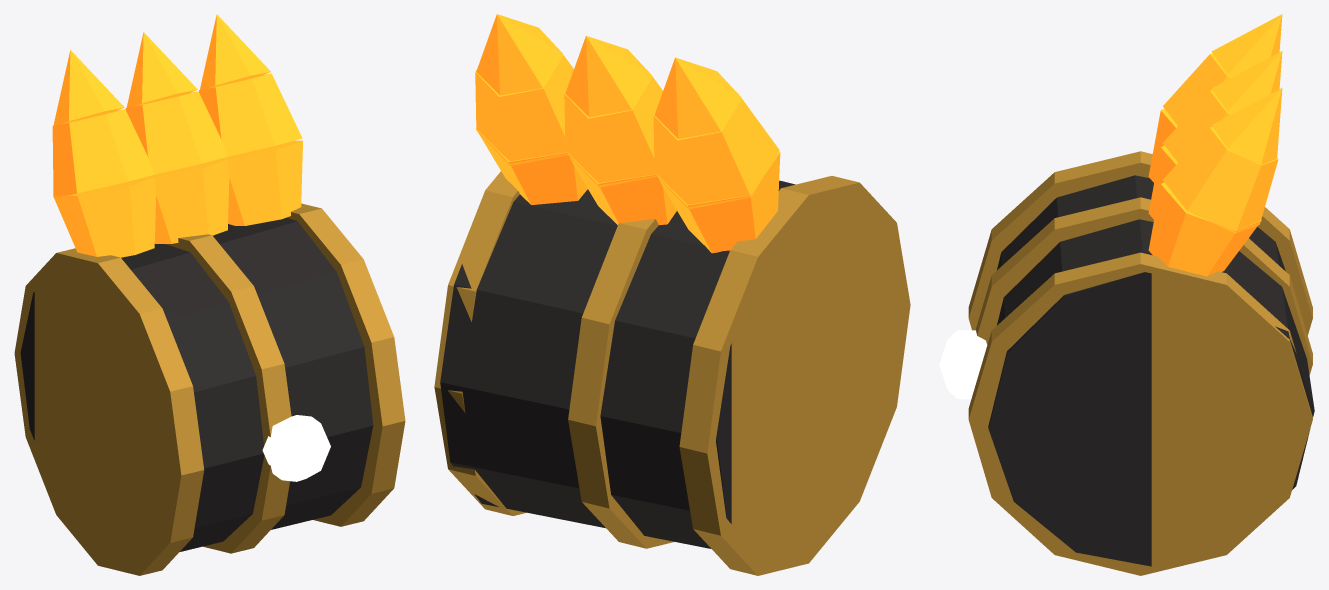
The model's file is ember_queen_bracer_r.glb.
3 views of the same model, side by side, from view 1: azimuth 30°, elevation 25°; view 2: azimuth 150°, elevation 25°; view 3: azimuth 270°, elevation 25° (orthographic). The views are drawn at different scales.
Parts seen in each view (by area): view 1: ember_queen_bracer_r; view 2: ember_queen_bracer_r; view 3: ember_queen_bracer_r.
Boxes of the visible parts, x1,y1,x2,y2 form: ember_queen_bracer_r: (14,14,405,575); ember_queen_bracer_r: (434,14,910,575); ember_queen_bracer_r: (939,14,1314,575).
Size of the model in its own units: 0.2523 by 0.476 by 0.3447.
